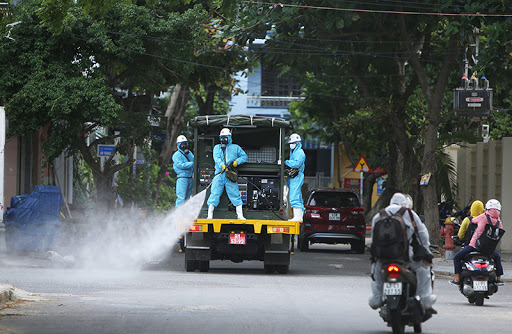plate: (383, 278, 404, 297), (227, 231, 247, 245), (471, 278, 490, 292), (328, 213, 341, 222)
